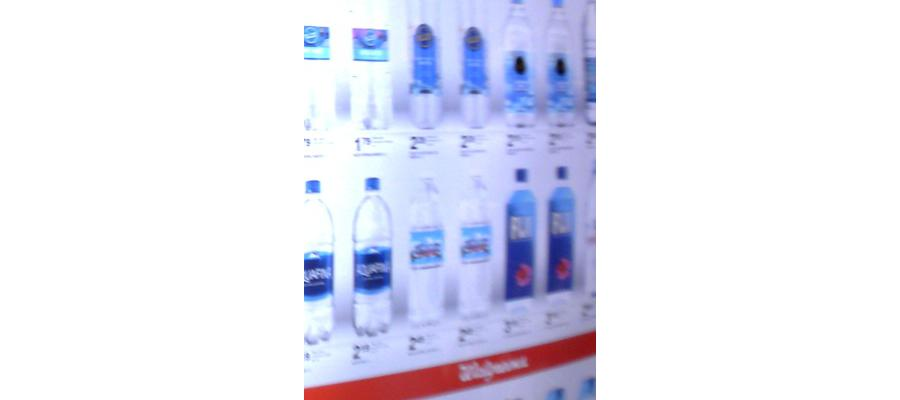bottle: (348, 173, 398, 336), (299, 181, 341, 345), (403, 20, 446, 126)
